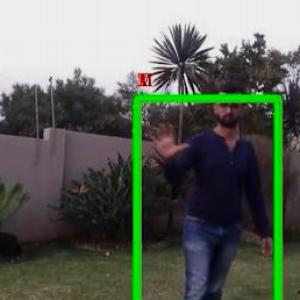follow_hand: (143, 115, 190, 161)
